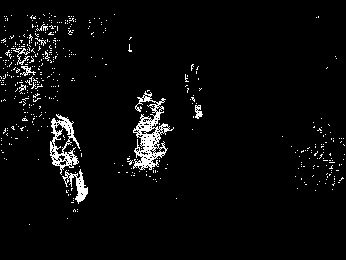person: (48, 112, 89, 214), (182, 61, 206, 121)
